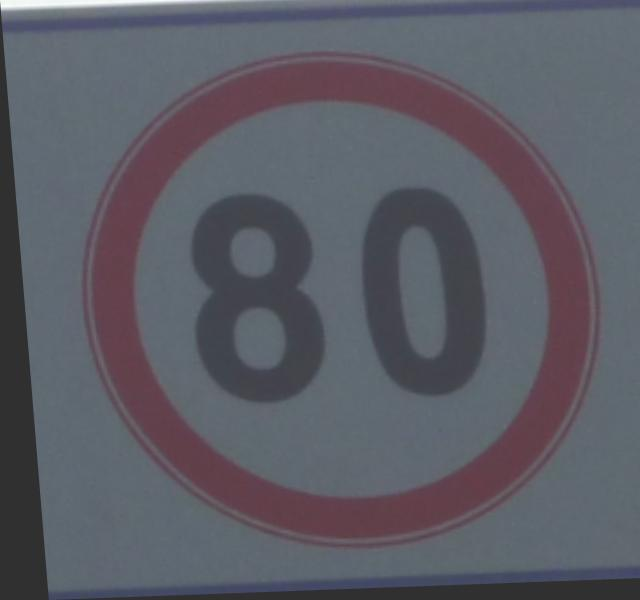limit80: (50, 33, 625, 567)
